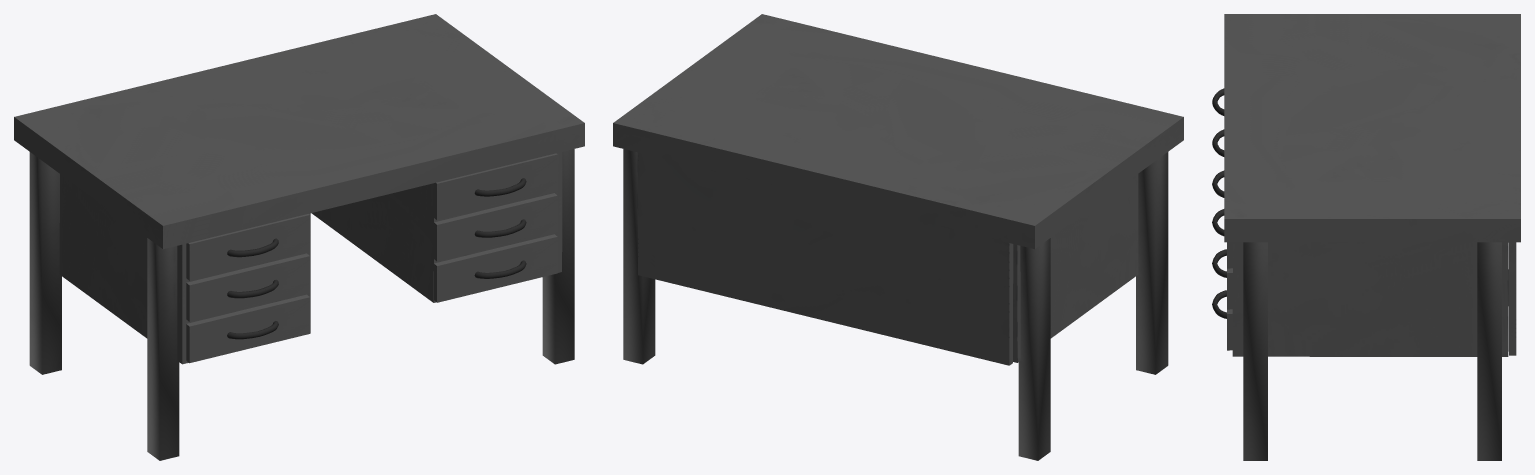
The model's file is MesaDeEscritorio2.fbx.
3 renders of one model, left to right at view 1: azimuth 30°, elevation 25°; view 2: azimuth 150°, elevation 25°; view 3: azimuth 270°, elevation 25°, orthographic.
Parts seen in each view (by area): view 1: Mesa.Escritorio2; view 2: Mesa.Escritorio2; view 3: Mesa.Escritorio2.
Boxes of the visible parts, x1,y1,x2,y2 form: Mesa.Escritorio2: (14, 14, 584, 460); Mesa.Escritorio2: (613, 14, 1183, 460); Mesa.Escritorio2: (1212, 14, 1520, 460).
Bounding box in the file's own units: 158 × 87.08 × 101.
